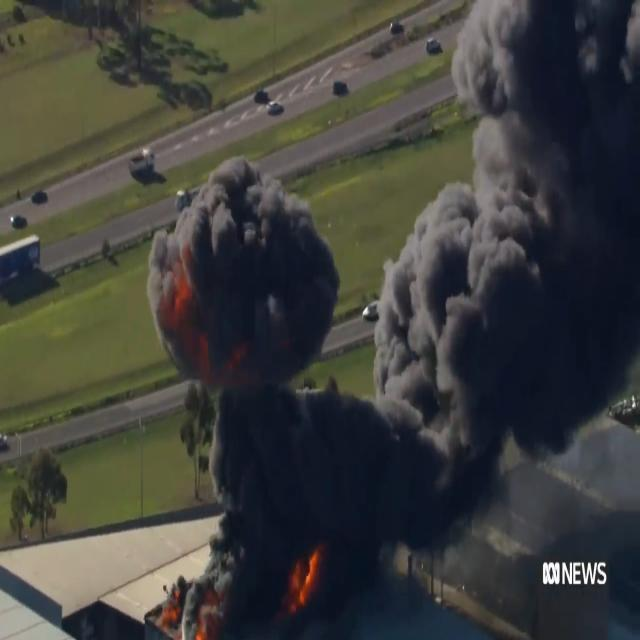fire: (288, 551, 324, 613)
